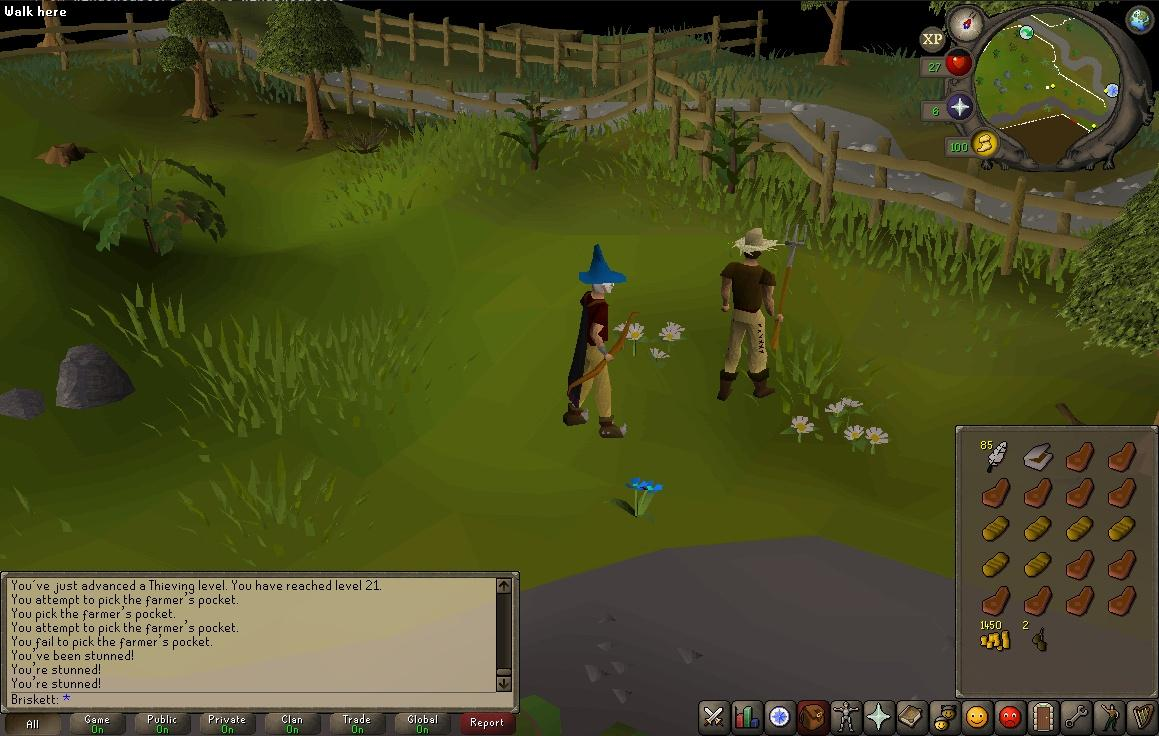Farmer: (717, 227, 785, 402)
